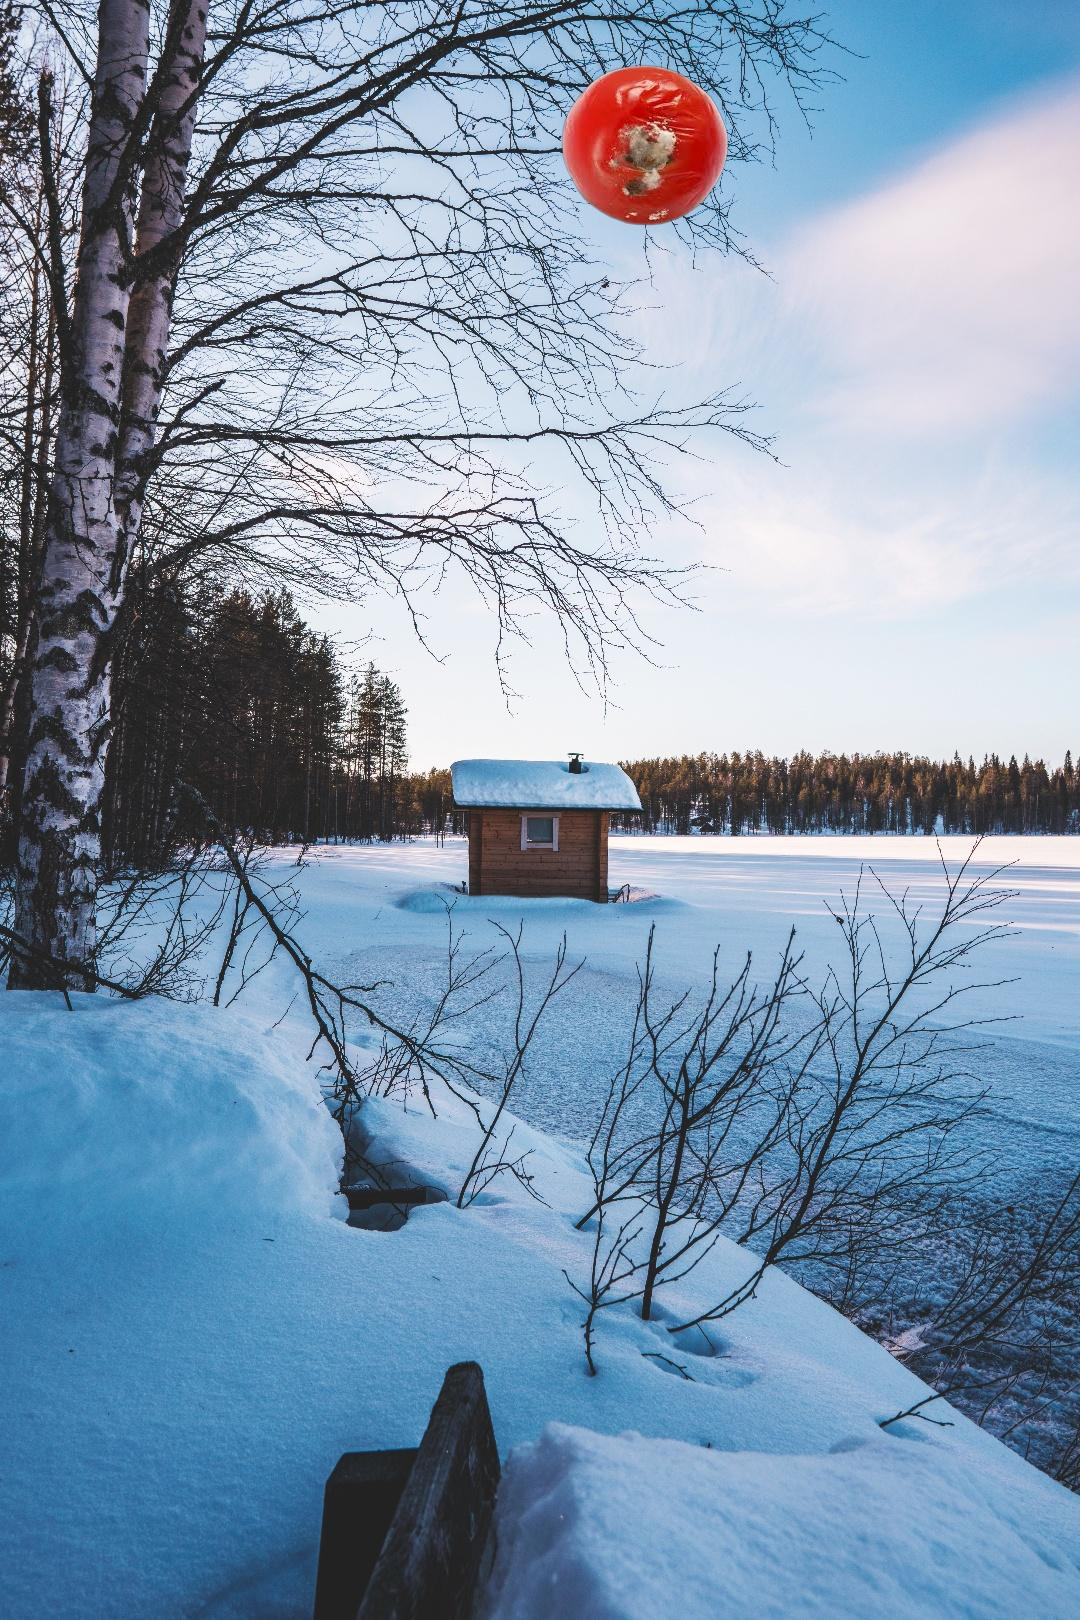biological: (559, 61, 730, 225)
